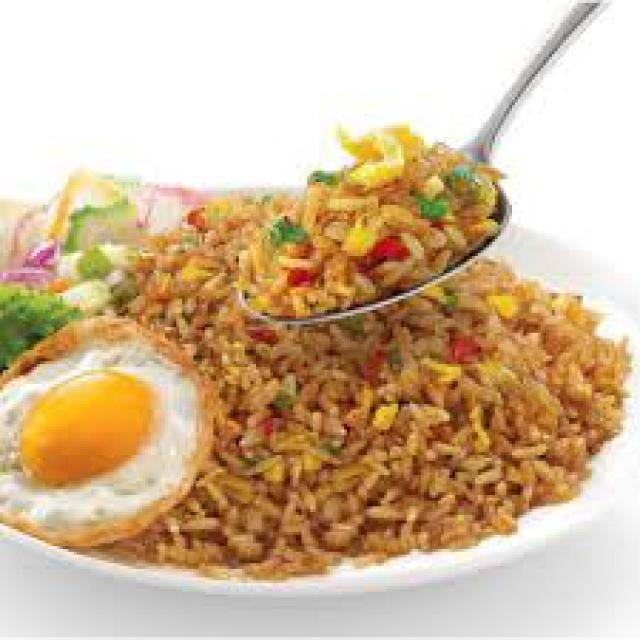Fried Egg: (2, 330, 186, 539)
